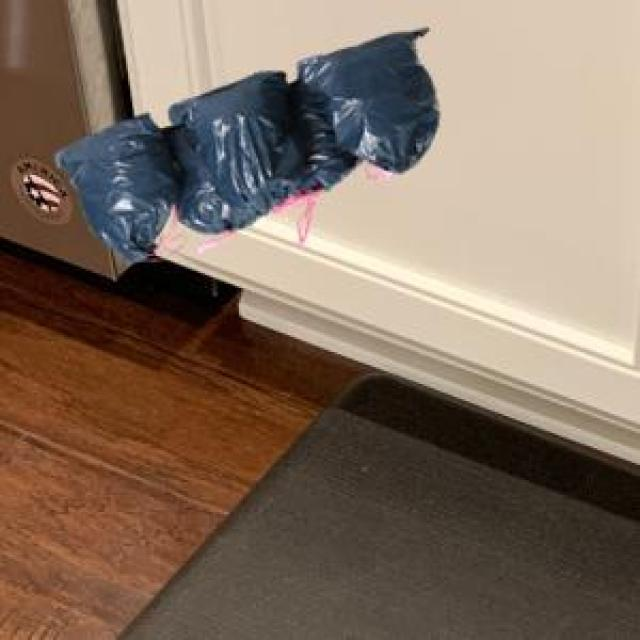Trashbag: (290, 16, 456, 178), (163, 61, 300, 211), (50, 110, 174, 270)
